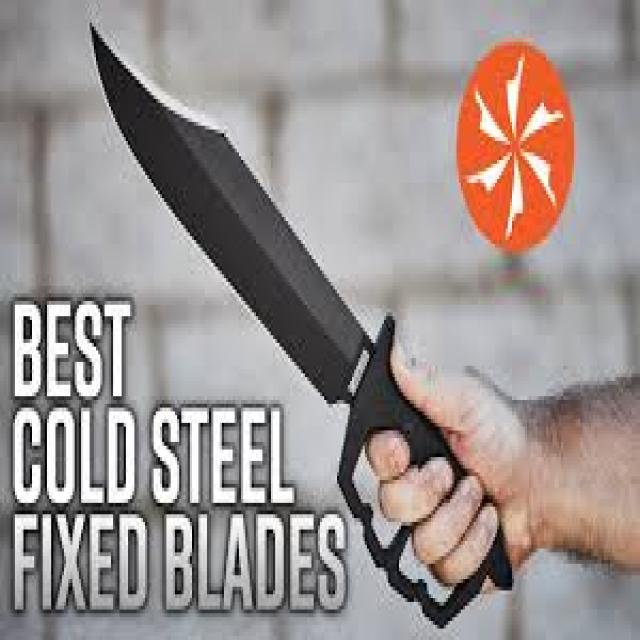knives: (84, 16, 425, 356)
